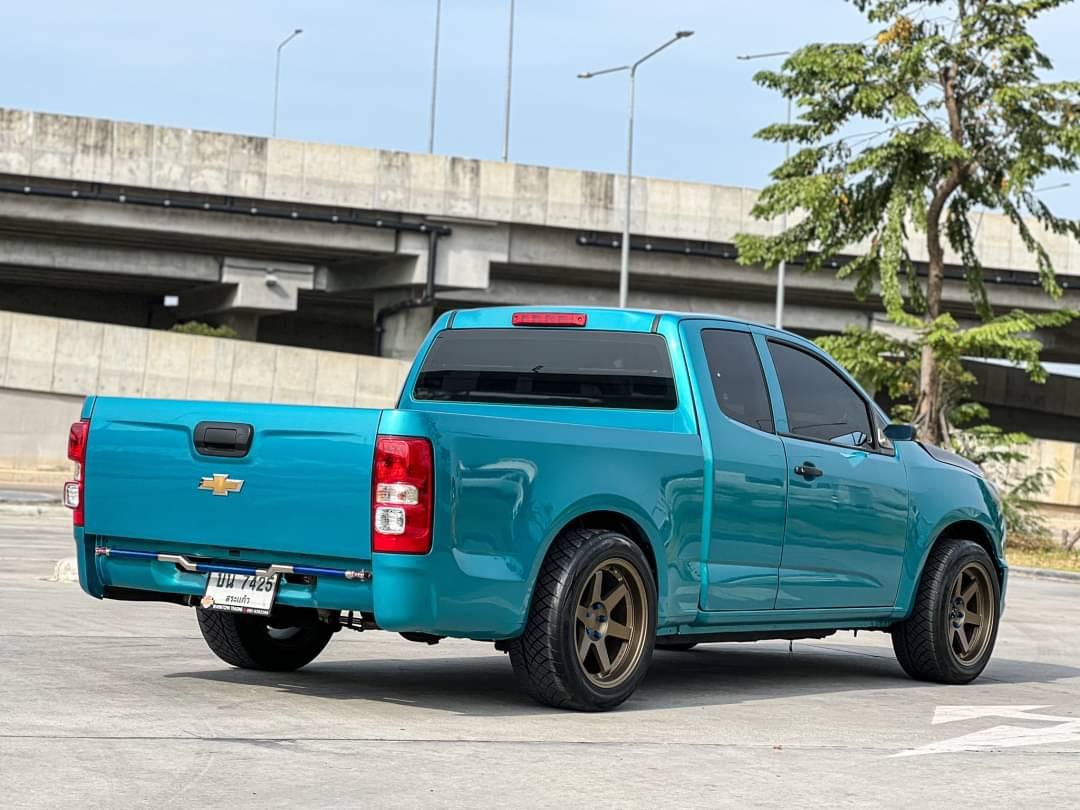license-plate: (198, 563, 279, 623)
